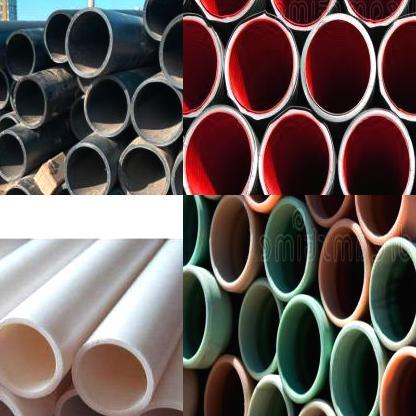pipe: (300, 14, 376, 123), (224, 11, 298, 120), (258, 104, 334, 195), (337, 108, 415, 195), (183, 104, 257, 195), (73, 338, 154, 416), (0, 317, 63, 398), (370, 242, 416, 344), (319, 224, 366, 322), (330, 326, 379, 416), (278, 300, 322, 398), (183, 12, 223, 119), (264, 202, 309, 296), (378, 12, 416, 121), (239, 282, 280, 376), (210, 195, 252, 283), (130, 79, 183, 147), (64, 7, 112, 78), (84, 75, 130, 137), (117, 144, 170, 195), (379, 350, 416, 416), (204, 359, 246, 416), (64, 143, 110, 195), (183, 269, 207, 361), (355, 195, 404, 239), (267, 0, 338, 30), (339, 0, 411, 28), (159, 12, 183, 90), (54, 389, 123, 416), (14, 76, 48, 129), (246, 377, 290, 416), (142, 0, 183, 41), (190, 0, 263, 23), (4, 30, 36, 80), (44, 10, 72, 62), (0, 130, 26, 181), (183, 195, 199, 270), (304, 195, 349, 221), (291, 404, 337, 416), (1, 184, 37, 195), (0, 69, 9, 110)
